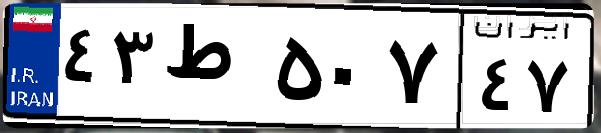0: (330, 28, 385, 110)
3: (110, 28, 158, 98)
4: (57, 26, 110, 100), (475, 38, 525, 113)
5: (270, 28, 330, 110)
7: (385, 28, 445, 110), (525, 38, 570, 115)
ط: (158, 20, 270, 120)
